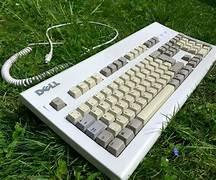keyboard: (18, 20, 215, 179)
